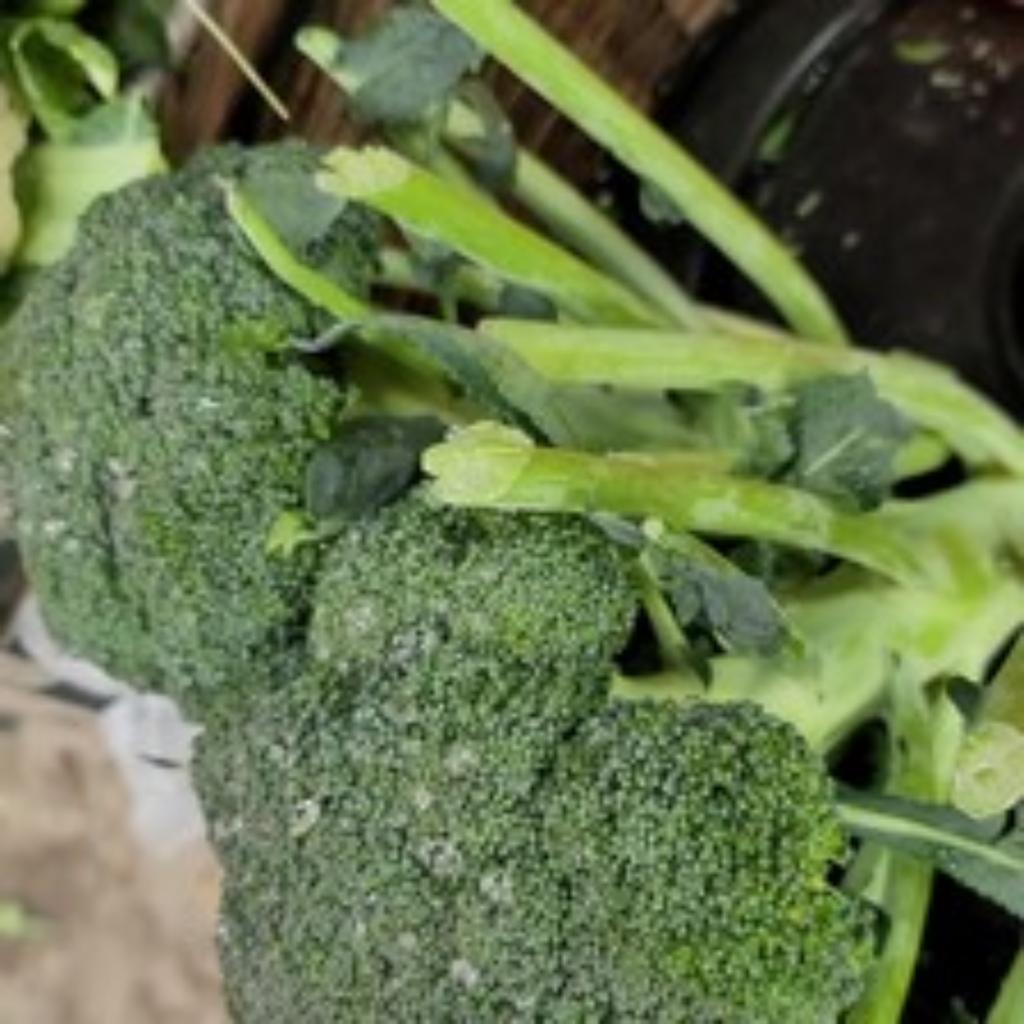Broccoli: (18, 148, 872, 1023), (18, 158, 868, 1023)
